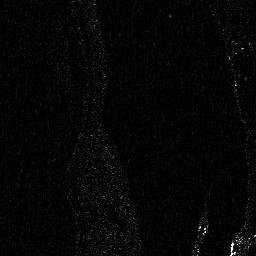ship: (190, 208, 210, 256)
